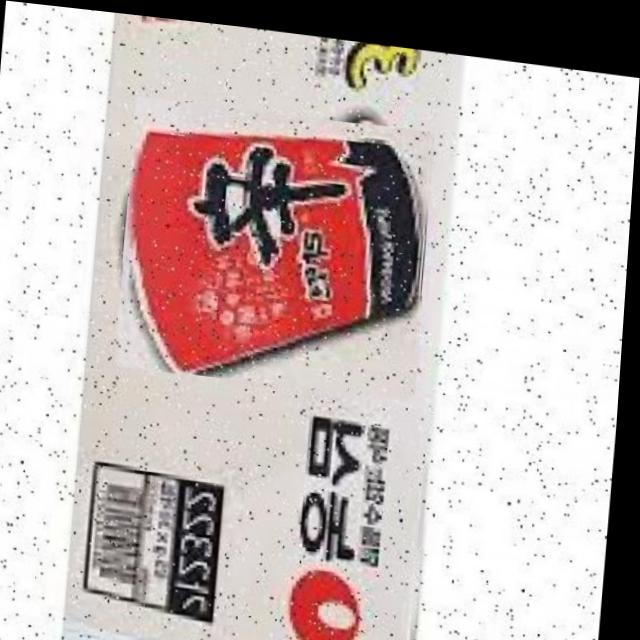Miscellaneous: (119, 90, 438, 393)
